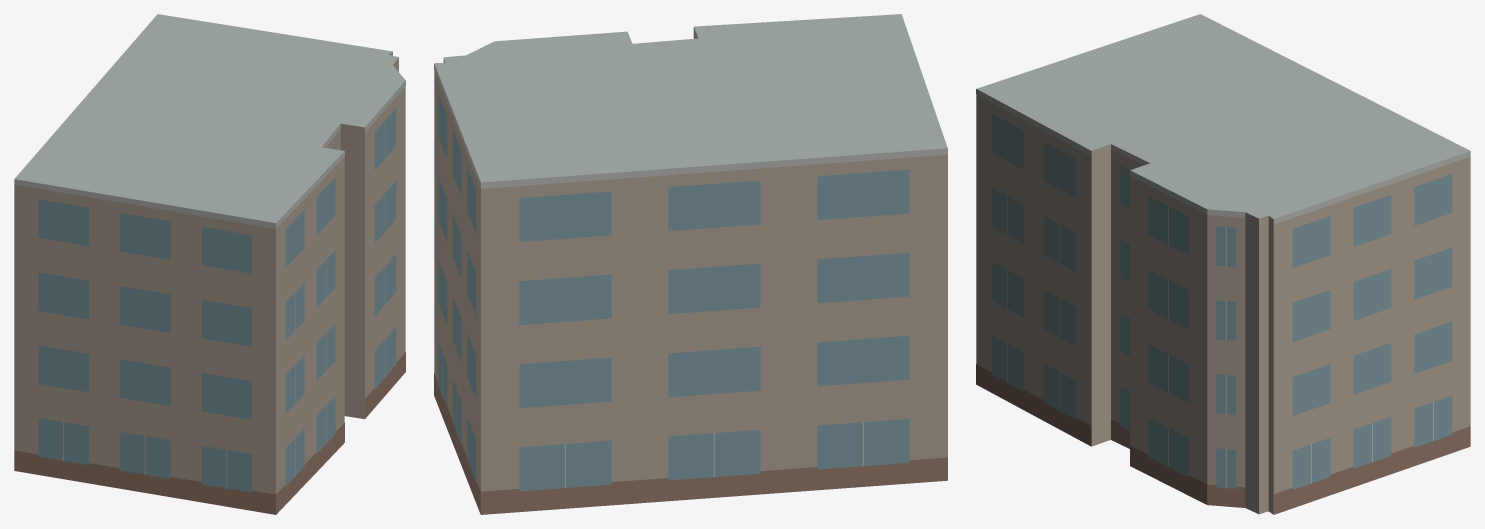
The model's file is survey-upis-32816433.glb.
3 views of the same model, side by side, from view 1: azimuth 30°, elevation 25°; view 2: azimuth 150°, elevation 25°; view 3: azimuth 270°, elevation 25° (orthographic). The views are drawn at different scales.
Visible parts, largest first — view 1: survey-upis-32816433.tmp; view 2: survey-upis-32816433.tmp; view 3: survey-upis-32816433.tmp.
Part boxes in pixels (<box>): survey-upis-32816433.tmp: <box>14,14,405,514</box>; survey-upis-32816433.tmp: <box>434,14,947,514</box>; survey-upis-32816433.tmp: <box>976,14,1470,514</box>.
Bounding box in the file's own units: 18.75 × 12.6 × 19.1.
